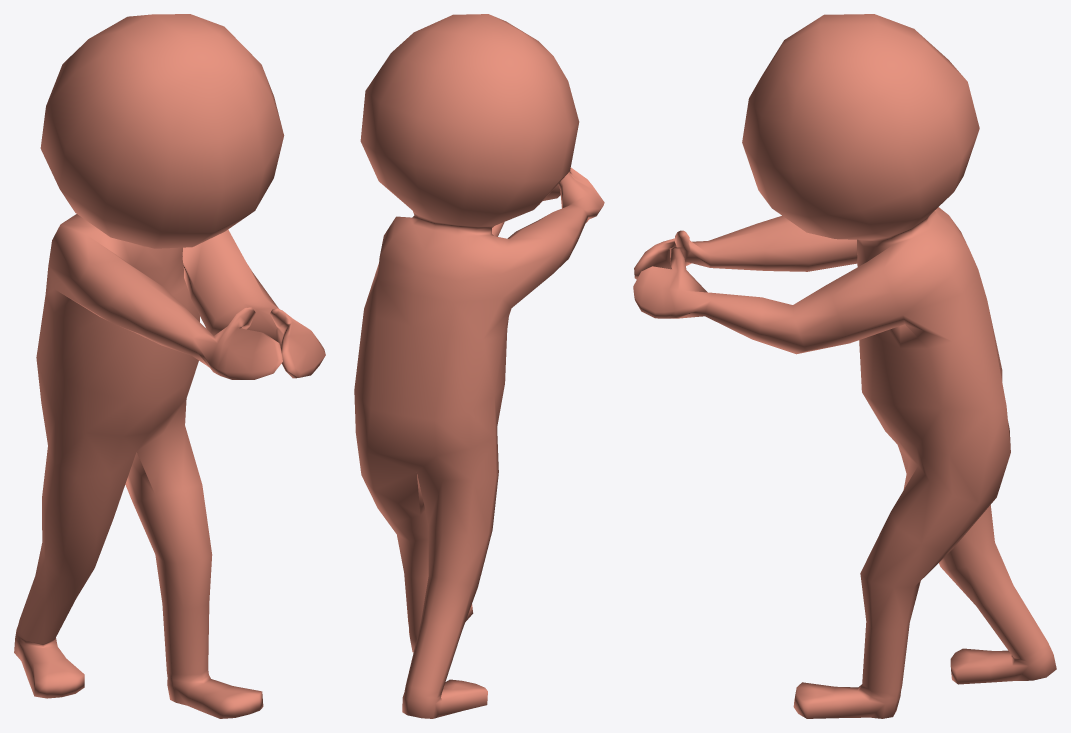
File: NormalChibiGunPose.fbx
3 renders of one model, left to right at view 1: azimuth 30°, elevation 25°; view 2: azimuth 150°, elevation 25°; view 3: azimuth 270°, elevation 25°, orthographic. The views are drawn at different scales.
Visible parts, largest first — view 1: player:polySurface1.001; view 2: player:polySurface1.001; view 3: player:polySurface1.001.
Boxes of the visible parts, box(x1,y1,x2,y2) form: player:polySurface1.001: box(14, 14, 325, 718); player:polySurface1.001: box(354, 14, 604, 718); player:polySurface1.001: box(633, 14, 1056, 718).
Bounding box in the file's own units: 227 × 727 × 414.
